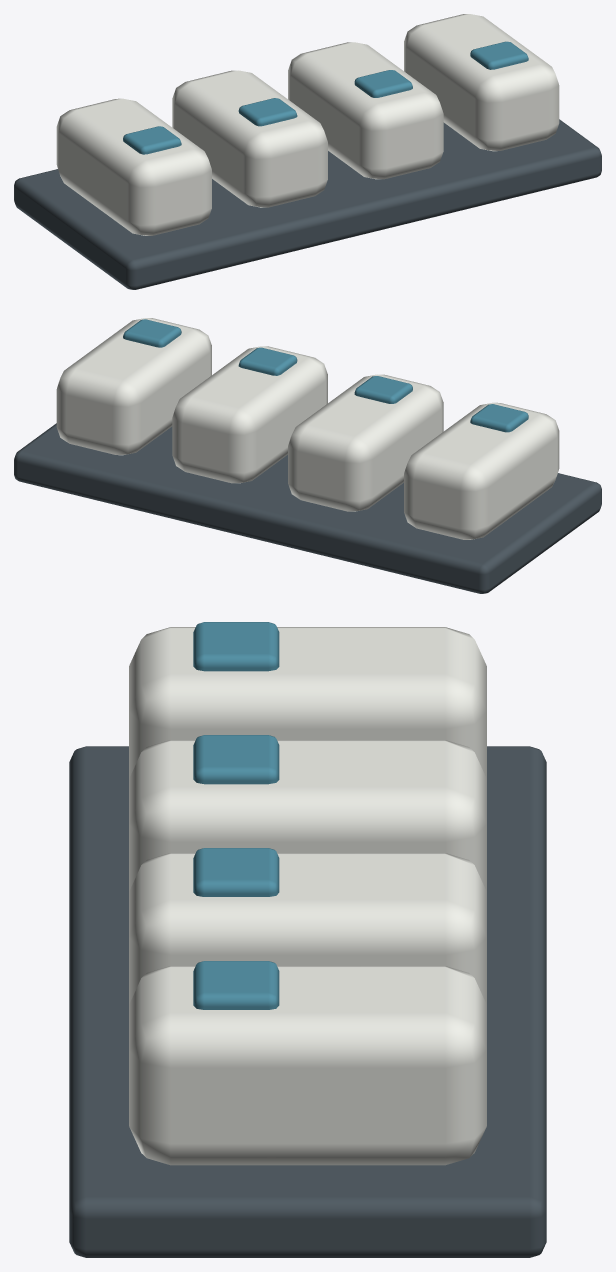
3 renders of one model, top to bottom at view 1: azimuth 30°, elevation 25°; view 2: azimuth 150°, elevation 25°; view 3: azimuth 270°, elevation 25°, orthographic. The views are drawn at different scales.
Visible parts, largest first — view 1: escape-pod-row; view 2: escape-pod-row; view 3: escape-pod-row.
Part boxes in pixels (x1,y1,x2,y2): escape-pod-row: (14,14,601,289); escape-pod-row: (14,318,601,593); escape-pod-row: (69,622,546,1257).
Size of the model in its own units: 2.3 by 0.52 by 0.9999.
